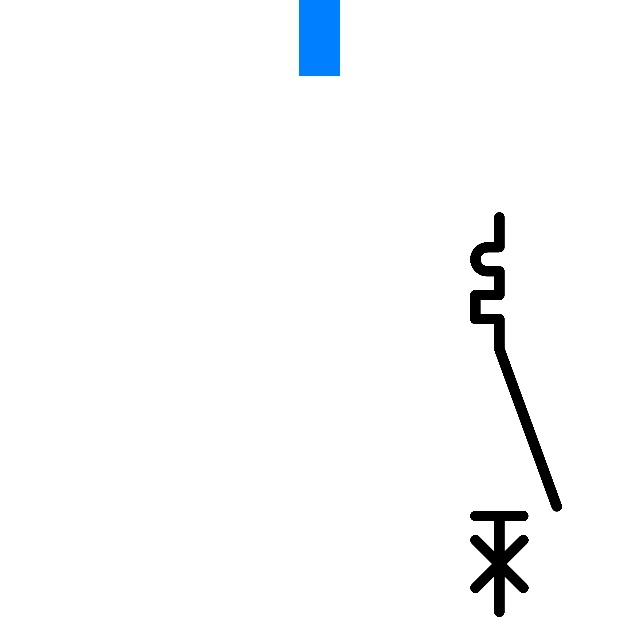interruptor_termomagnetico: (465, 207, 566, 622)
